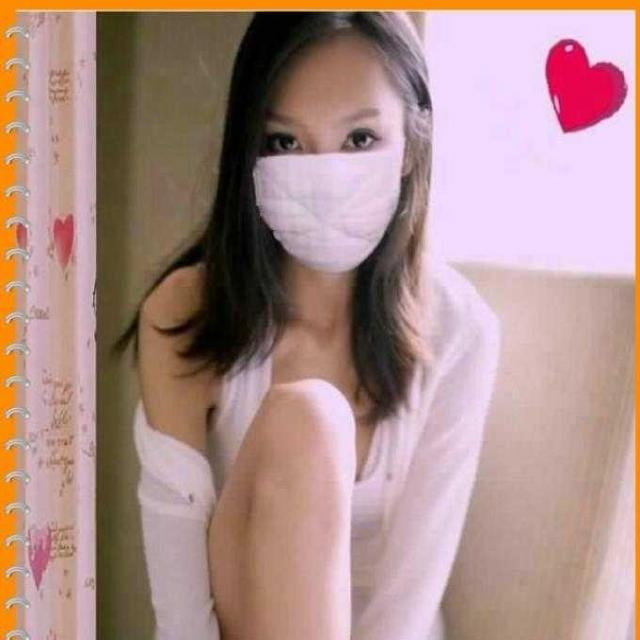mask: (250, 36, 405, 270)
